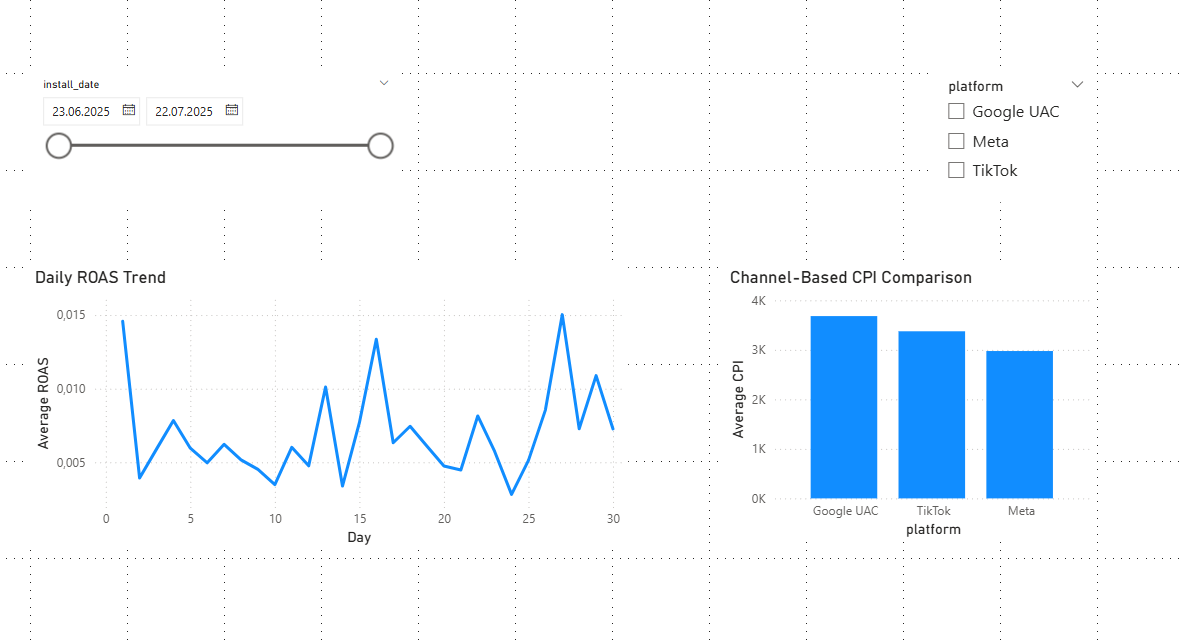

The page's visual inventory and layout, read from the dashboard file:
{"tool":"powerbi","page":{"name":"Channel Comparison & ROAS Trend","canvas":[1280,720],"ordinal":1},"visuals":[{"type":"columnChart","title":"Channel-Based CPI Comparison","fields":{"Category":["user_acquisition.platform"],"Y":["best_channel_creative.Average CPI"]},"box":[784,288,368,272],"z":0},{"type":"lineChart","title":"Daily ROAS Trend","fields":{"Category":["installs.install_date.Variation.Date Hierarchy.Day"],"Y":["best_channel_creative.Average ROAS"]},"box":[96,288,592,280],"z":1000},{"type":"slicer","fields":{"Values":["installs.install_date"]},"box":[96,96,368,128],"z":2000},{"type":"slicer","fields":{"Values":["user_acquisition.platform"]},"box":[992,96,160,128],"z":3000}]}

Visuals, with their boxes on the page's 1280x720 design canvas (x1, y1, x2, y2). These are canvas units, not pixel positions in the 1184x643 screenshot, which may show the page scaled, cropped or inside an application window:
"Channel-Based CPI Comparison" columnChart: [784,288,1152,560]
"Daily ROAS Trend" lineChart: [96,288,688,568]
slicer - installs.install_date: [96,96,464,224]
slicer - user_acquisition.platform: [992,96,1152,224]
